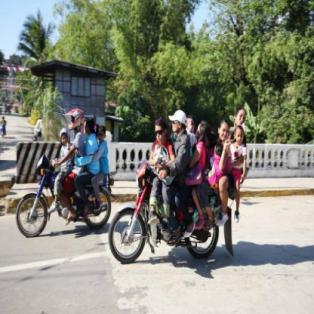Motocicleta: (114, 173, 229, 268), (15, 153, 113, 242)
